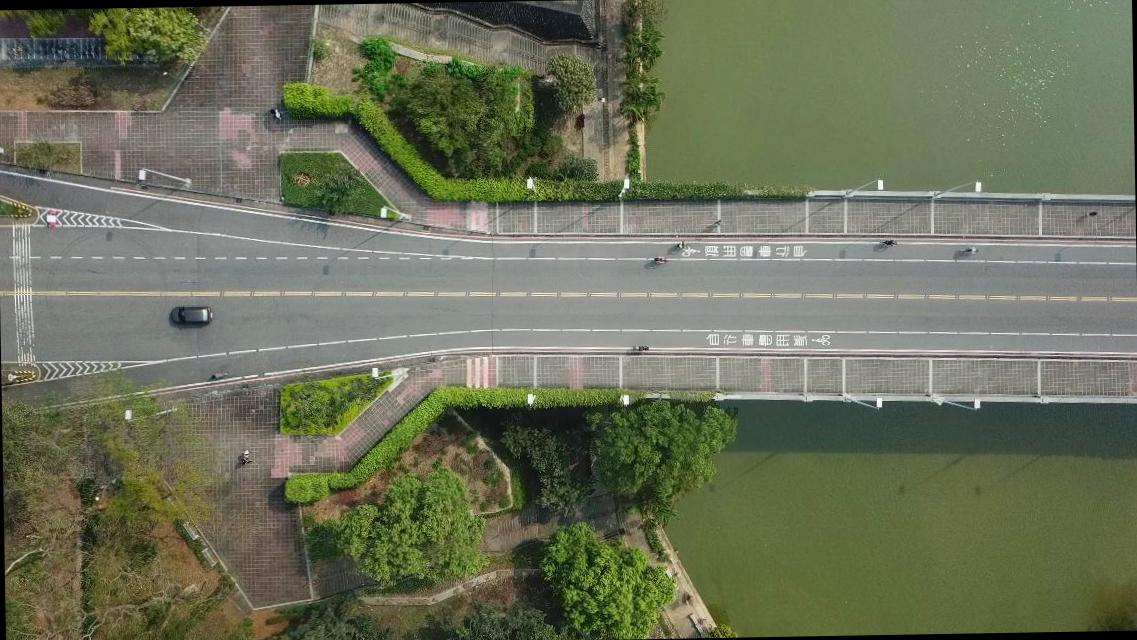vehicle: (169, 306, 213, 326)
